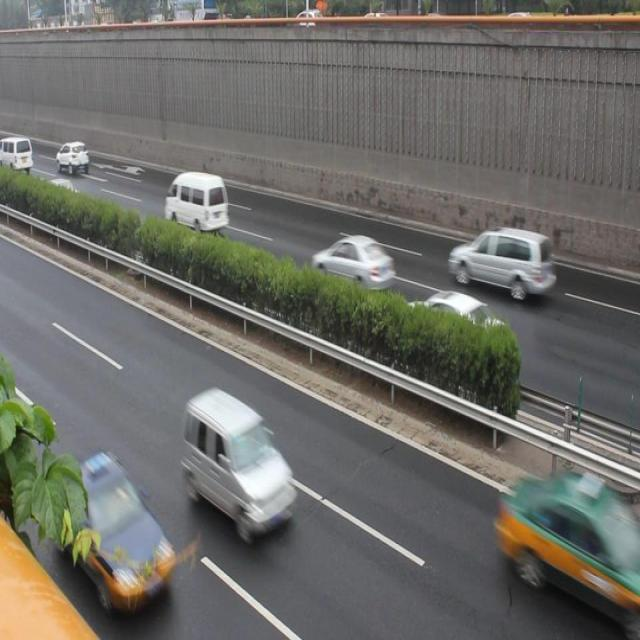car: (491, 462, 640, 619), (54, 448, 189, 607), (181, 386, 296, 537), (409, 278, 503, 364), (309, 231, 394, 300)
truck: (453, 229, 559, 301), (168, 167, 232, 235)
